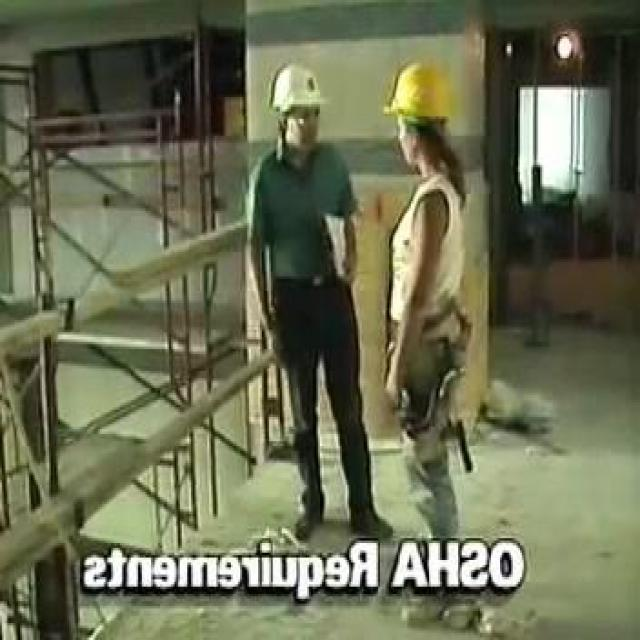Reflective-Jacket: (377, 168, 488, 374)
Safety-Helmet: (376, 46, 471, 150), (258, 51, 336, 131)
